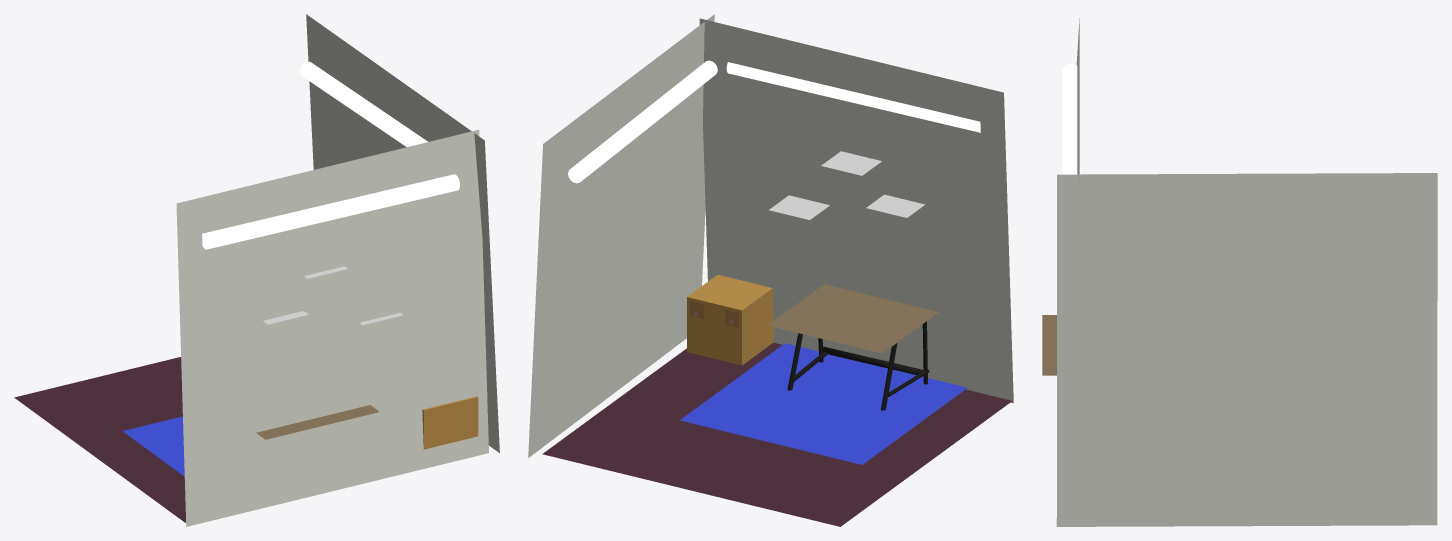
File: room.glb
3 views of the same model, side by side, from view 1: azimuth 30°, elevation 25°; view 2: azimuth 150°, elevation 25°; view 3: azimuth 270°, elevation 25° (orthographic). The views are drawn at different scales.
Parts seen in each view (by area): view 1: Plane.001, Plane.002, Plane, Cylinder.001, Cylinder.002, Cube, Plane.003, Plane.008; view 2: Plane.001, Plane.002, Plane, Plane.003, Plane.008, Cube, Cylinder.002, Cylinder.001, Plane.006, Plane.004, Plane.005, Cylinder; view 3: Plane.002, Cylinder.001, Plane.008, Plane.001.
Part boxes in pixels (left/top/right/bottom): Plane.001: left=176, top=129, right=488, bottom=526; Plane.002: left=306, top=14, right=499, bottom=452; Plane: left=14, top=357, right=185, bottom=522; Cylinder.001: left=202, top=174, right=459, bottom=249; Cylinder.002: left=299, top=61, right=427, bottom=146; Cube: left=422, top=396, right=478, bottom=449; Plane.003: left=122, top=416, right=184, bottom=476; Plane.008: left=256, top=405, right=379, bottom=439; Plane.001: left=699, top=18, right=1013, bottom=403; Plane.002: left=528, top=14, right=714, bottom=457; Plane: left=542, top=342, right=1011, bottom=526; Plane.003: left=680, top=343, right=967, bottom=464; Plane.008: left=768, top=284, right=938, bottom=353; Cube: left=687, top=274, right=773, bottom=365; Cylinder.002: left=568, top=60, right=717, bottom=183; Cylinder.001: left=726, top=62, right=980, bottom=132; Plane.006: left=769, top=195, right=829, bottom=219; Plane.004: left=821, top=151, right=881, bottom=175; Plane.005: left=866, top=194, right=925, bottom=217; Cylinder: left=823, top=346, right=923, bottom=376; Plane.002: left=1056, top=173, right=1437, bottom=526; Cylinder.001: left=1062, top=63, right=1080, bottom=174; Plane.008: left=1042, top=315, right=1056, bottom=375; Plane.001: left=1073, top=18, right=1079, bottom=270.
Size of the model in its own units: 2.85 by 2.78 by 2.87.
